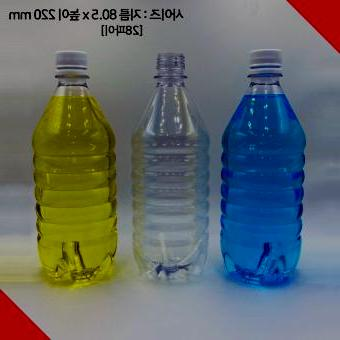bottle: (219, 49, 308, 286), (31, 50, 116, 288), (132, 52, 211, 283)
